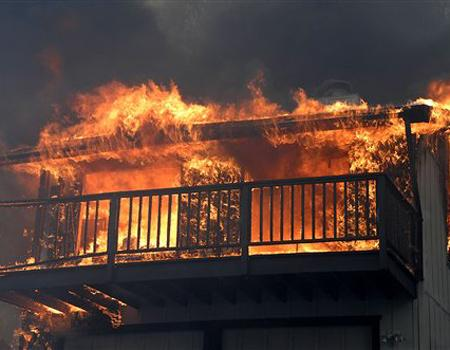fire: (81, 87, 237, 137)
